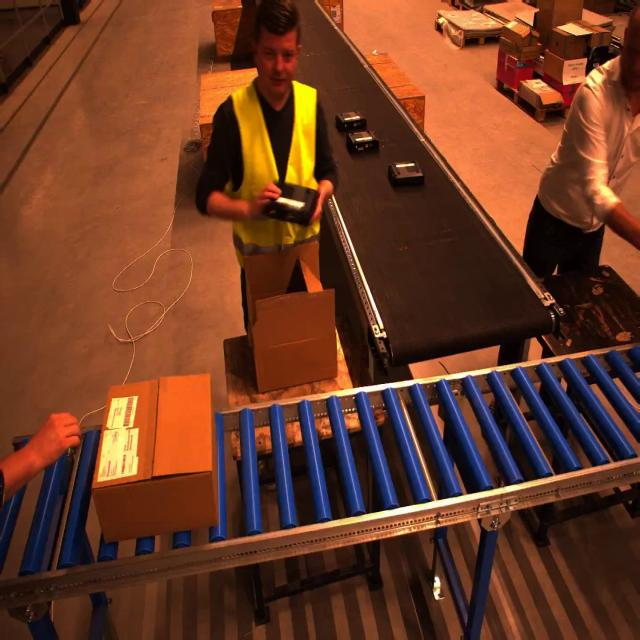box: (90, 376, 217, 542), (240, 234, 338, 392)
product: (264, 181, 321, 227), (388, 161, 423, 186), (346, 130, 378, 154), (335, 111, 364, 132)
